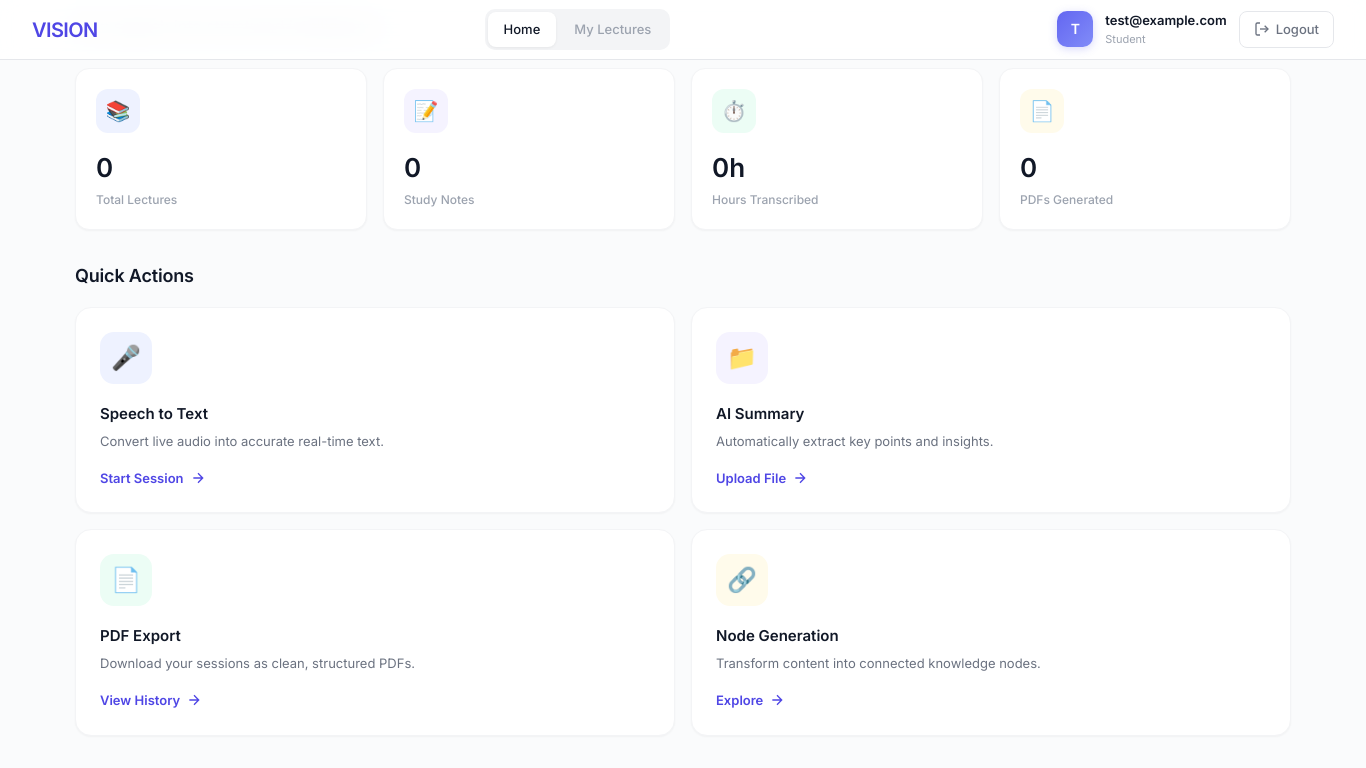
Test: DashboardLayout › should switch to history tab when PDF Export card is clicked
This screenshot has width=1366, height=768.
(page scrolled)
Check: the heading "PDF Export" is shown, box [100, 624, 181, 648]
Note: Find the PDF Export button (which navigates to history)
Click the button with test id "feature-card-pdf" at point(126, 580), box [75, 530, 675, 736]
(page scrolled)
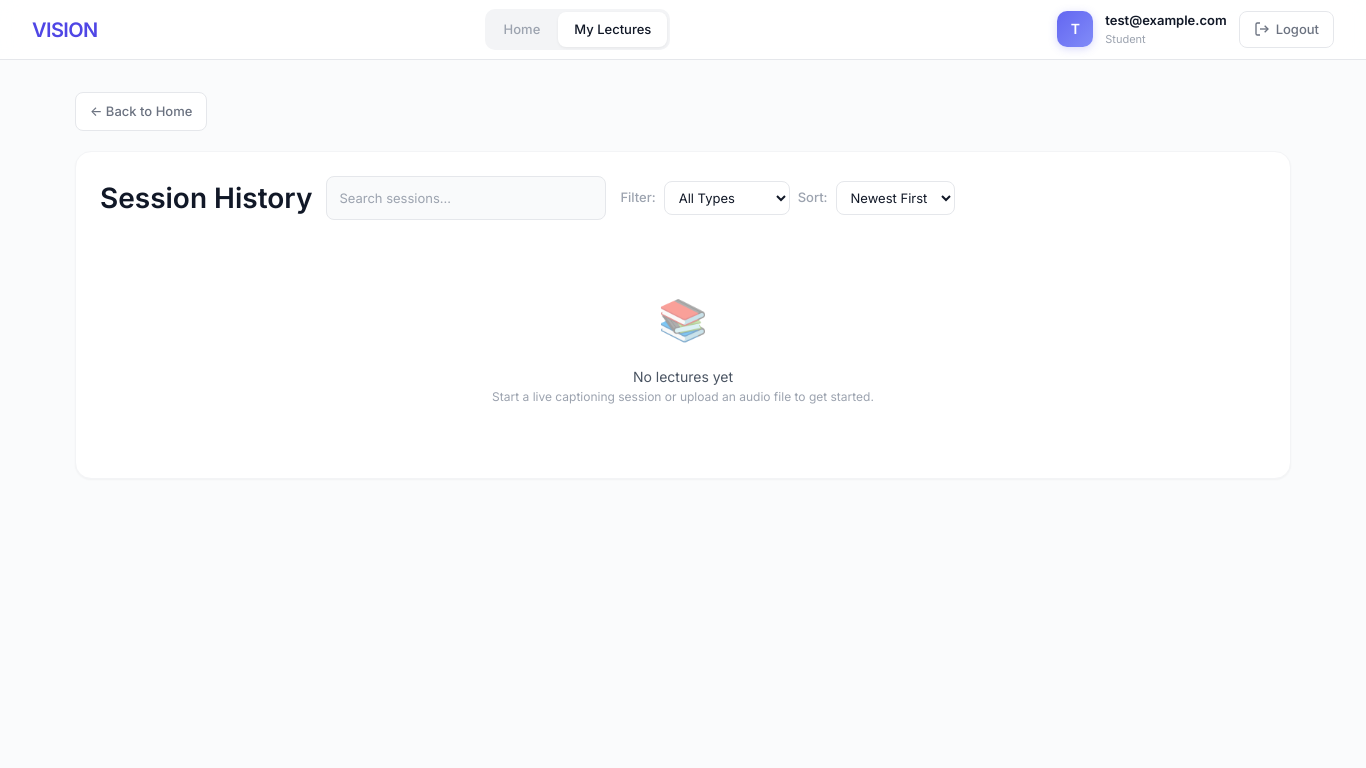
Check: the element with test id "lecture-history" is shown, box [75, 151, 1291, 479]
